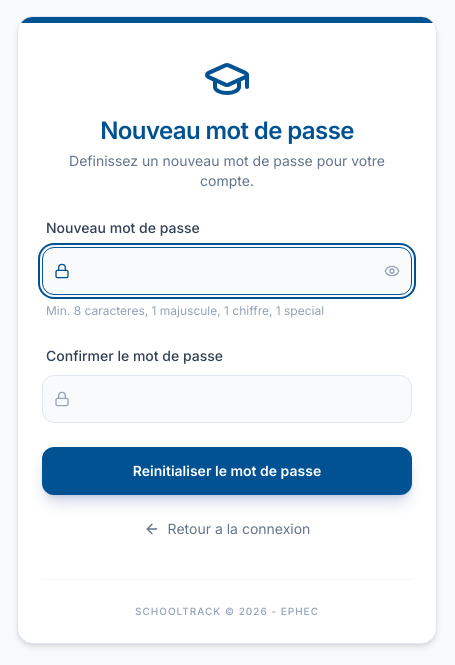
ResetPasswordScreen — with token › toggles password visibility
Click the button named "Afficher".
click(398, 271)  # box top-left (384, 247), bottom-right (412, 295)
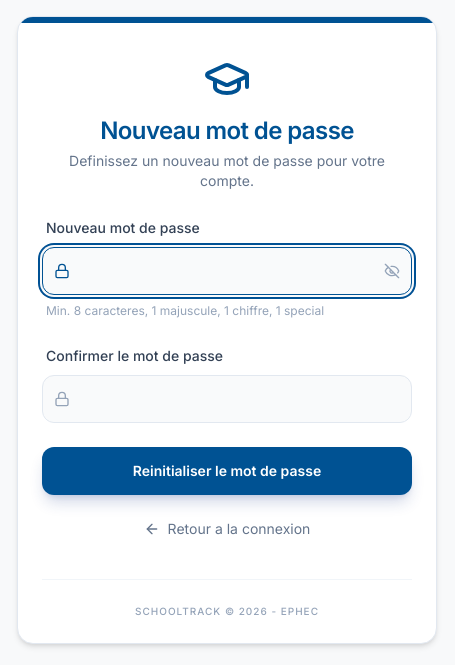
Now the button named "Masquer" is shown, box top-left (384, 247), bottom-right (412, 295)
